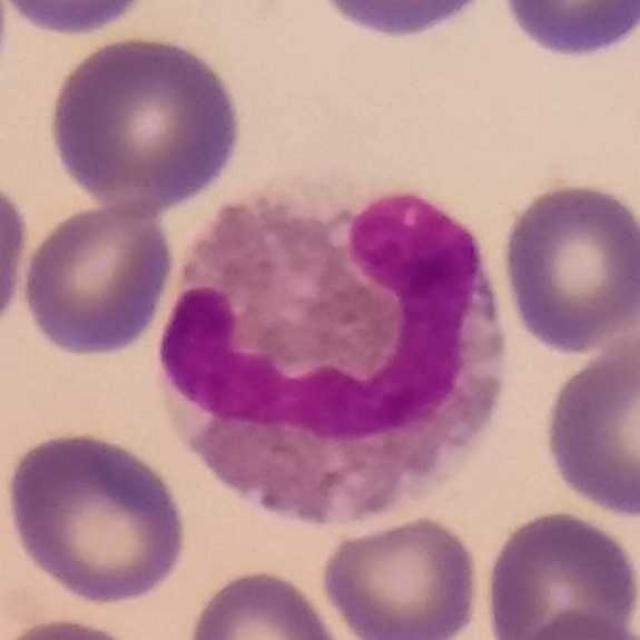Eosinophil: (155, 183, 519, 525)
RBC: (43, 29, 246, 216), (0, 425, 191, 607), (17, 197, 178, 361), (497, 176, 640, 355), (478, 505, 640, 639), (316, 512, 484, 640), (538, 323, 640, 521), (182, 564, 350, 640), (494, 0, 640, 65), (310, 0, 502, 43), (0, 0, 157, 38), (0, 167, 33, 346), (495, 605, 640, 640), (0, 612, 159, 640)
